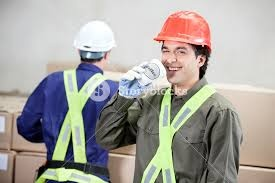red: (155, 10, 212, 84)
white: (74, 19, 115, 68)
